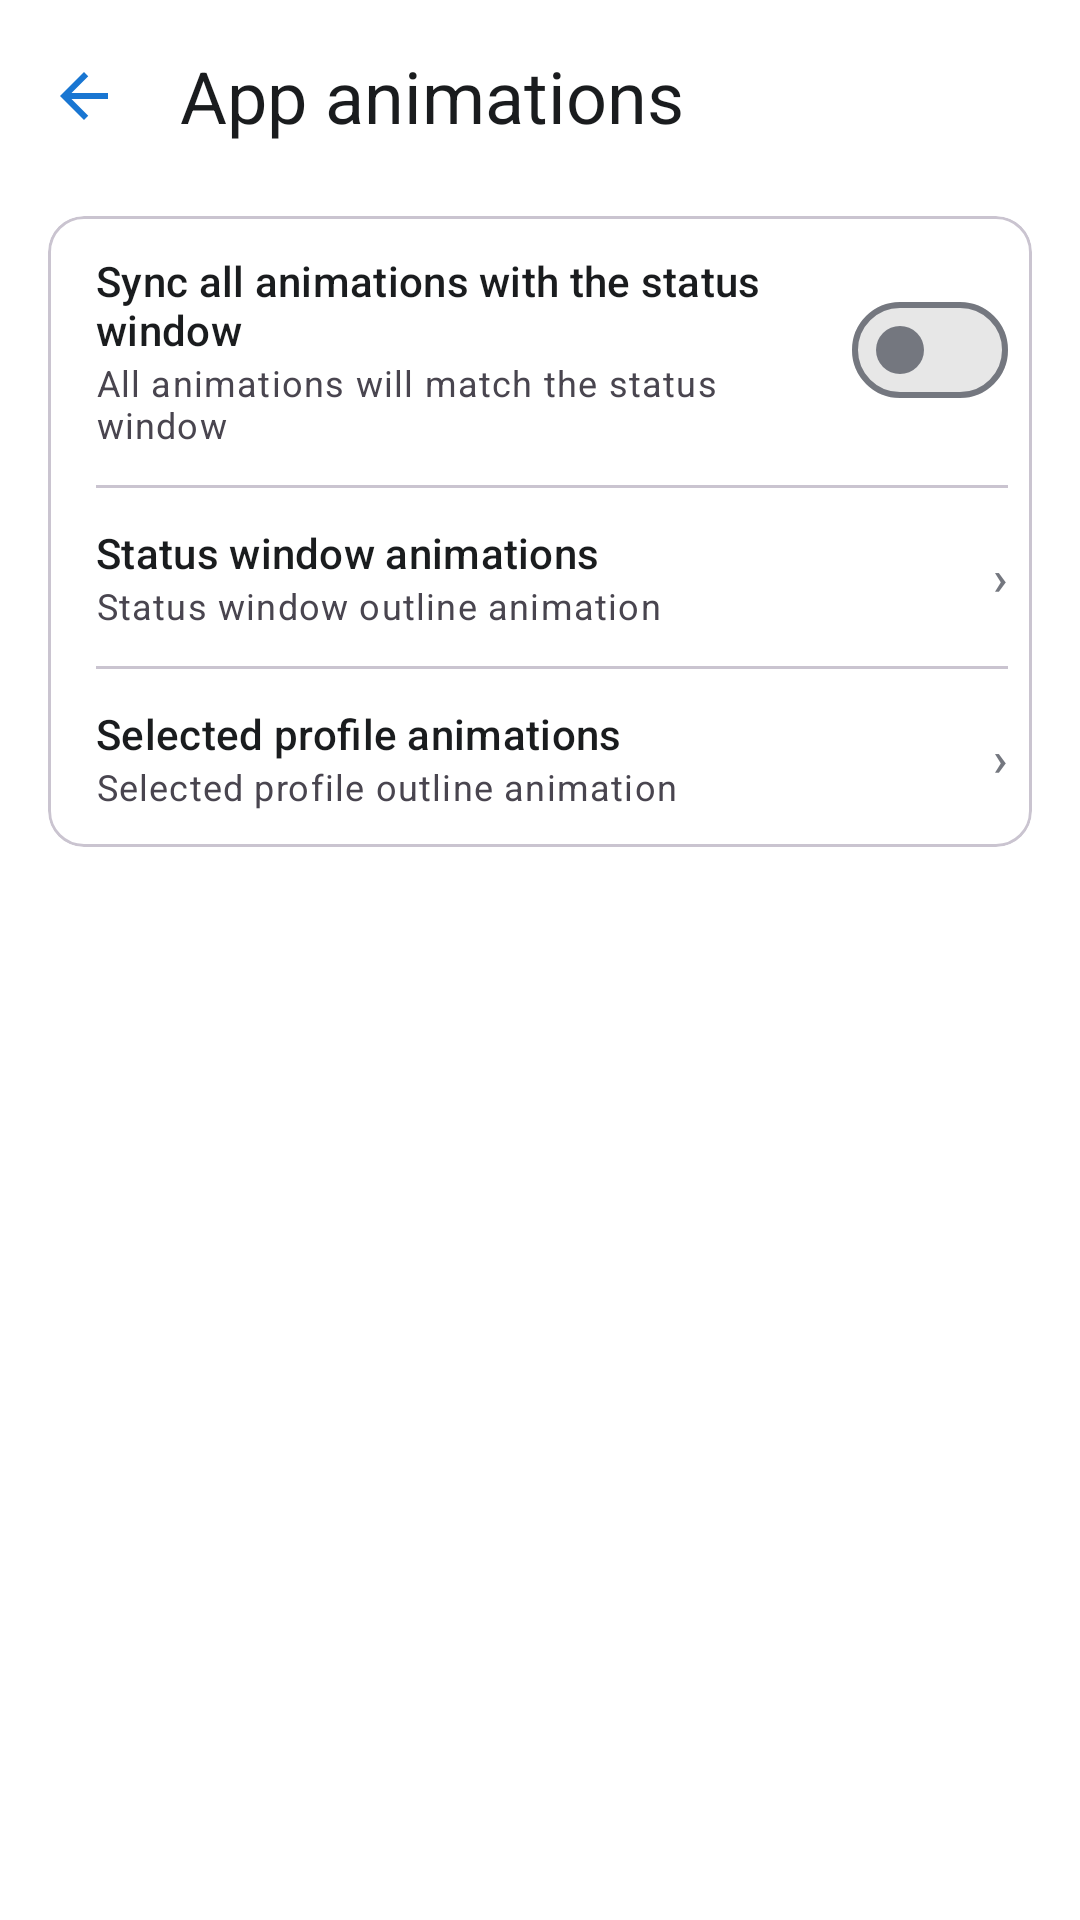

Point at icon controls on the screen. Image size 1080 x 1920, points as (x=x, y=y).
Back: (x=84, y=96)
